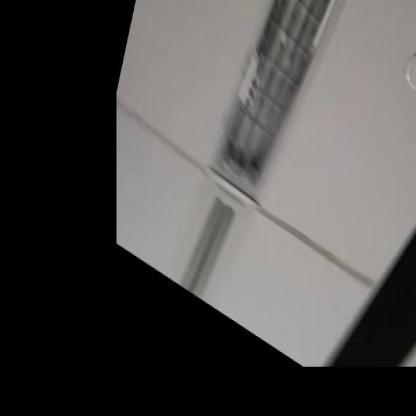light_off: (205, 0, 363, 242)
